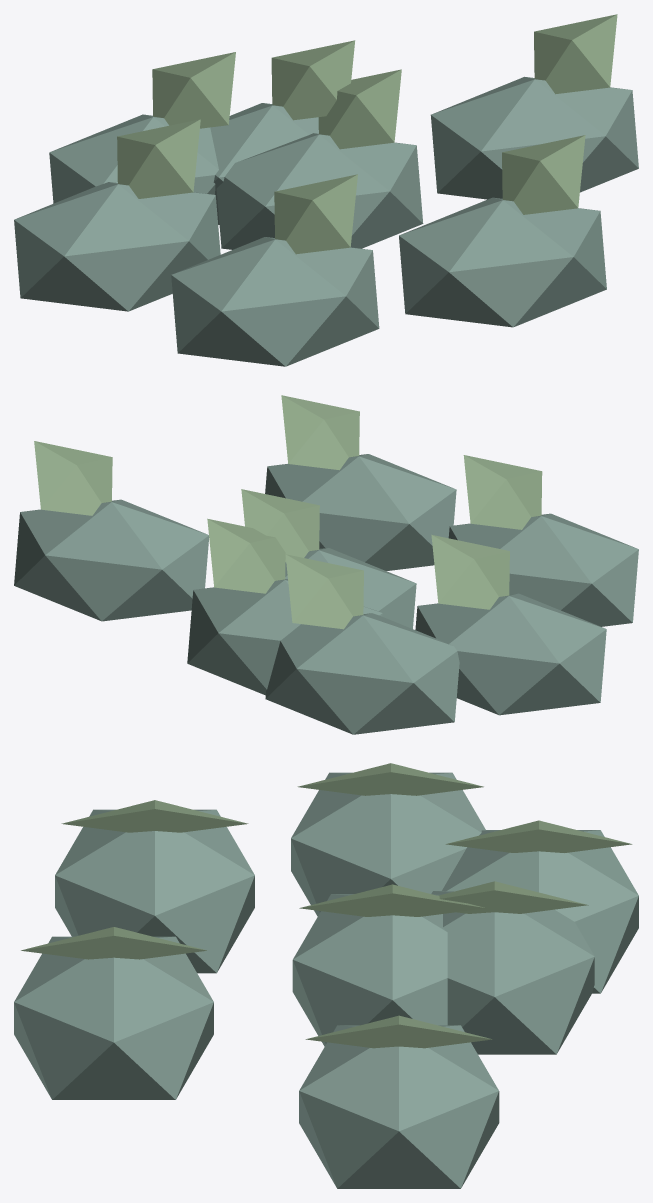
File: map-exclusive-v3__lake_08.glb
3 views of the same model, one above another, from view 1: azimuth 30°, elevation 25°; view 2: azimuth 150°, elevation 25°; view 3: azimuth 270°, elevation 25° (orthographic). The views are drawn at different scales.
Visible parts, largest first — view 1: lake_08; view 2: lake_08; view 3: lake_08.
Part boxes in pixels (x1,y1,x2,y2): lake_08: (14,14,638,366); lake_08: (14,395,638,734); lake_08: (14,763,638,1188).
Bounding box in the file's own units: 1.86 × 0.4901 × 1.33.
